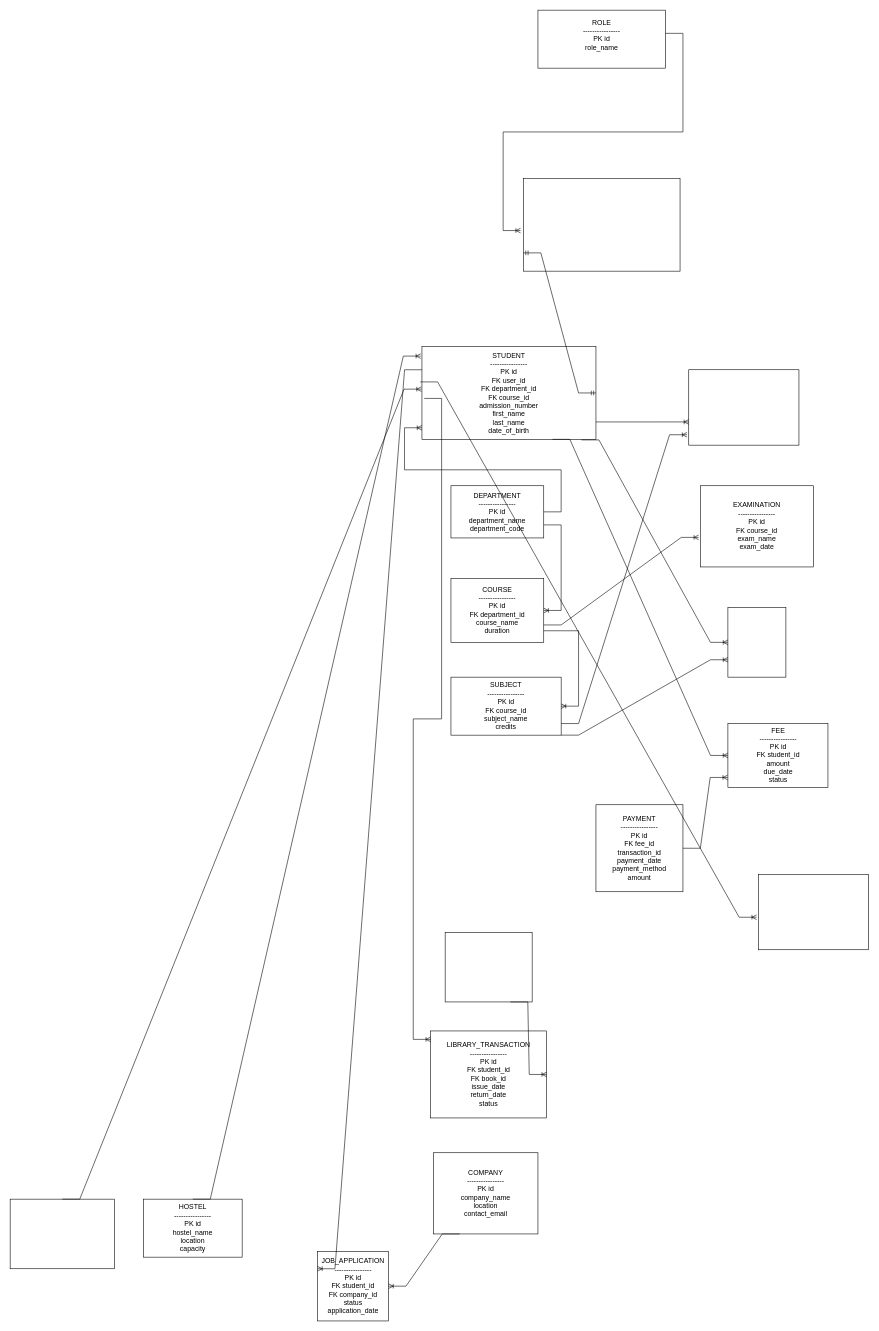
Some shapes in this 879 by 1331 pixel diagram are drawn without their labels. Here are the shapes that lost their labels. From the top down, the centre of each, then its label:
At [601,224]: "USER ---------------- PK id FK role_id username email password_hash phone status".
At [743,407]: "ATTENDANCE ---------------- PK id FK student_id FK subject_id date status".
At [756,642]: "RESULT ---------------- PK id FK student_id FK subject_id marks grade".
At [813,912]: "SCHOLARSHIP ---------------- PK id FK student_id scholarship_name amount status".
At [488,967]: "BOOK ---------------- PK id title author isbn quantity".
At [62,1234]: "TRANSPORT ---------------- PK id vehicle_number route driver_name".
